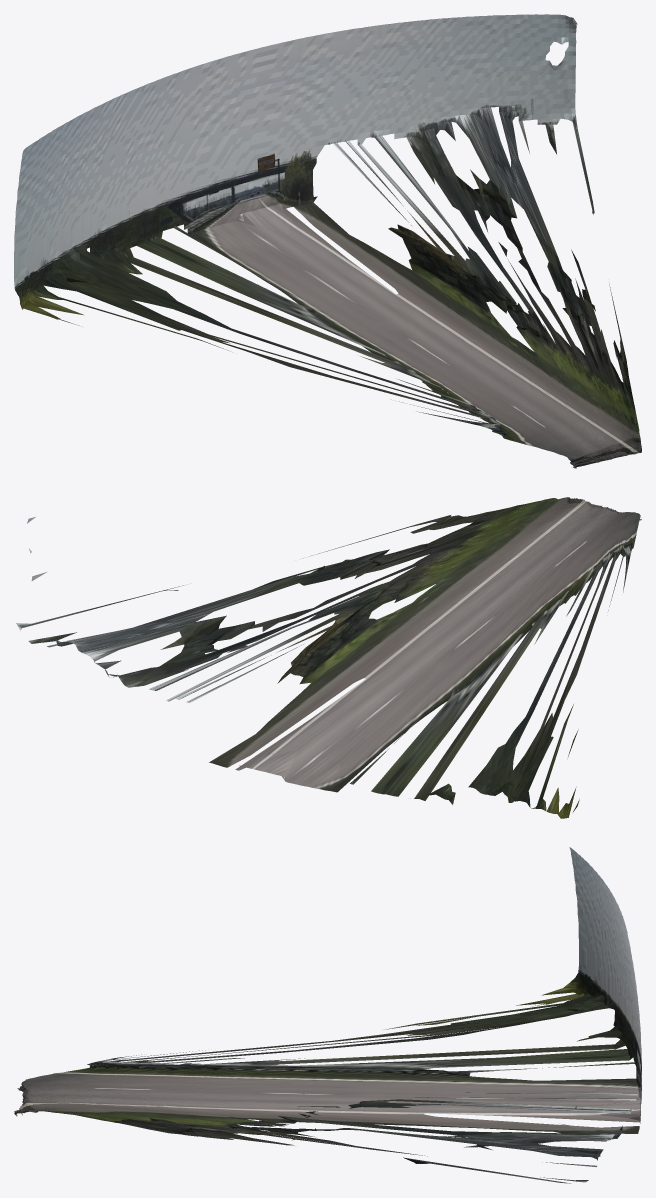
3 views of the same model, one above another, from view 1: azimuth 30°, elevation 25°; view 2: azimuth 150°, elevation 25°; view 3: azimuth 270°, elevation 25° (orthographic). The views are drawn at different scales.
Visible parts, largest first — view 1: defaultobject; view 2: defaultobject; view 3: defaultobject.
Boxes of the visible parts, box(x1,y1,x2,y2) form: defaultobject: box(14, 14, 641, 468); defaultobject: box(16, 497, 641, 818); defaultobject: box(14, 847, 641, 1183).
Size of the model in its own units: 41.12 by 12.37 by 44.62.
Materials: 1 (1 with a texture image).
